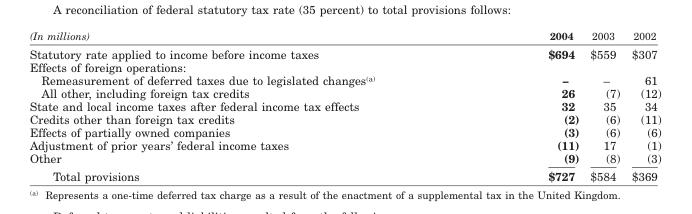table: (28, 28, 660, 182)
table column: (28, 28, 460, 182), (460, 28, 584, 182), (584, 28, 625, 182), (625, 28, 660, 182)
table column header: (28, 28, 660, 44)
table projected row header: (28, 60, 660, 73)
table row: (28, 28, 660, 44), (28, 44, 660, 60), (28, 166, 660, 182), (28, 151, 660, 166), (28, 60, 660, 73), (28, 73, 660, 86), (28, 86, 660, 99), (28, 99, 660, 112), (28, 112, 660, 125), (28, 125, 660, 138), (28, 138, 660, 151)
